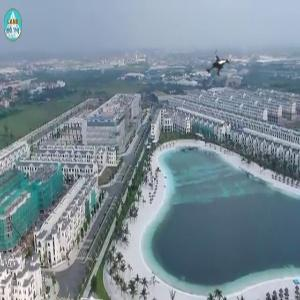drone: (191, 40, 248, 97)
